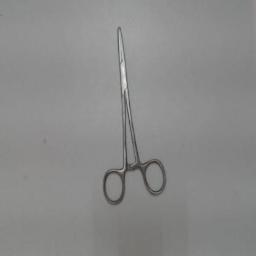Mayo Needle Holder: (98, 13, 170, 211)
